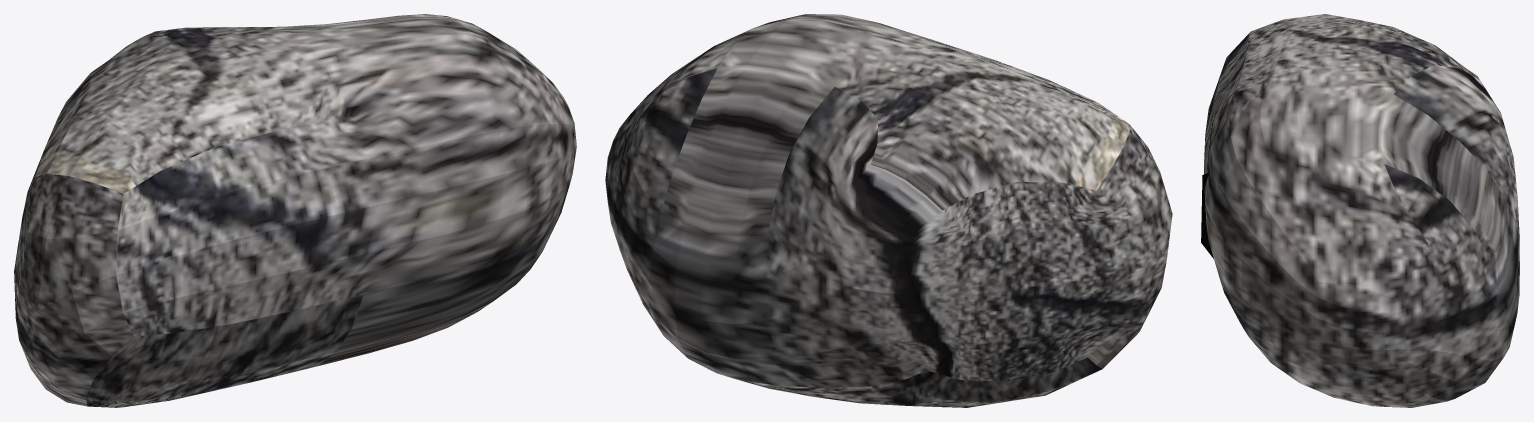
File: rock2.obj
3 views of the same model, side by side, from view 1: azimuth 30°, elevation 25°; view 2: azimuth 150°, elevation 25°; view 3: azimuth 270°, elevation 25° (orthographic). The views are drawn at different scales.
Visible parts, largest first — view 1: Cube; view 2: Cube; view 3: Cube, Plane.
Part boxes in pixels (box(x1,y1,x2,y2)): Cube: box(14, 14, 576, 407); Cube: box(605, 14, 1172, 407); Cube: box(1204, 14, 1519, 407); Plane: box(1201, 173, 1213, 258).
Size of the model in its own units: 3.35 by 1.92 by 1.93.
Materials: 2 (1 with a texture image).
